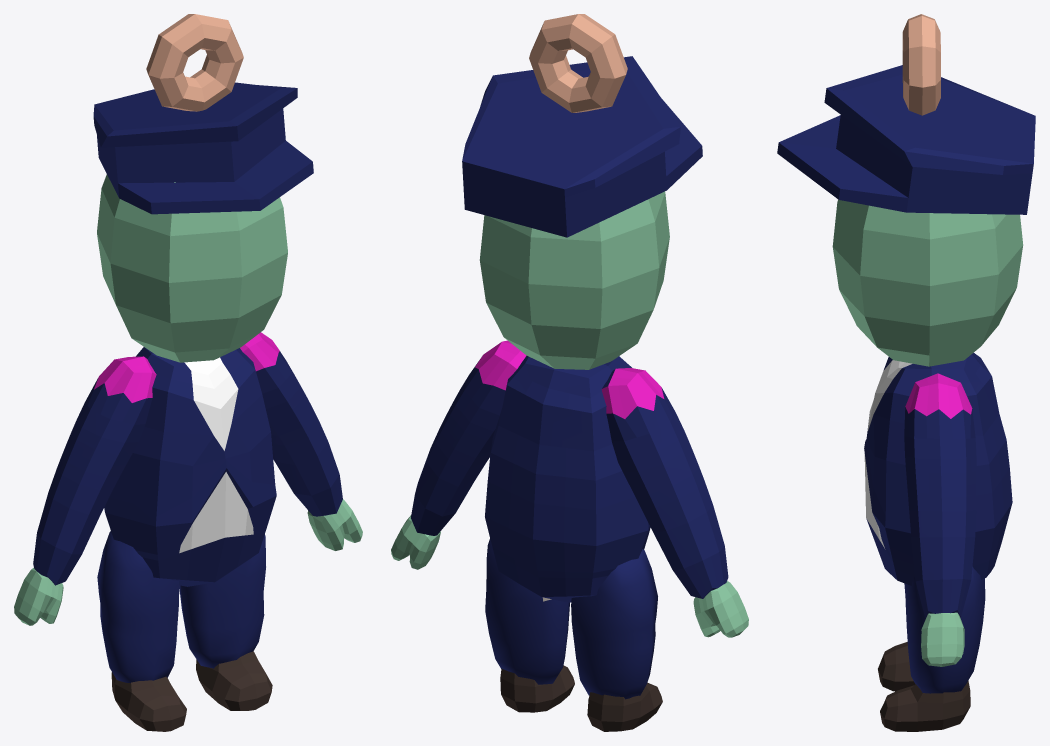
File: PoliceMan.fbx
3 views of the same model, side by side, from view 1: azimuth 30°, elevation 25°; view 2: azimuth 150°, elevation 25°; view 3: azimuth 270°, elevation 25° (orthographic).
Parts seen in each view (by area): view 1: Police; view 2: Police; view 3: Police.
Boxes of the visible parts, x1=… form: Police: x1=14, y1=14, x2=362, y2=731; Police: x1=391, y1=14, x2=748, y2=731; Police: x1=777, y1=14, x2=1035, y2=731.
Size of the model in its own units: 180 by 349 by 118.
